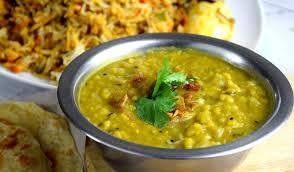Dhal Curry: (81, 47, 258, 149)
